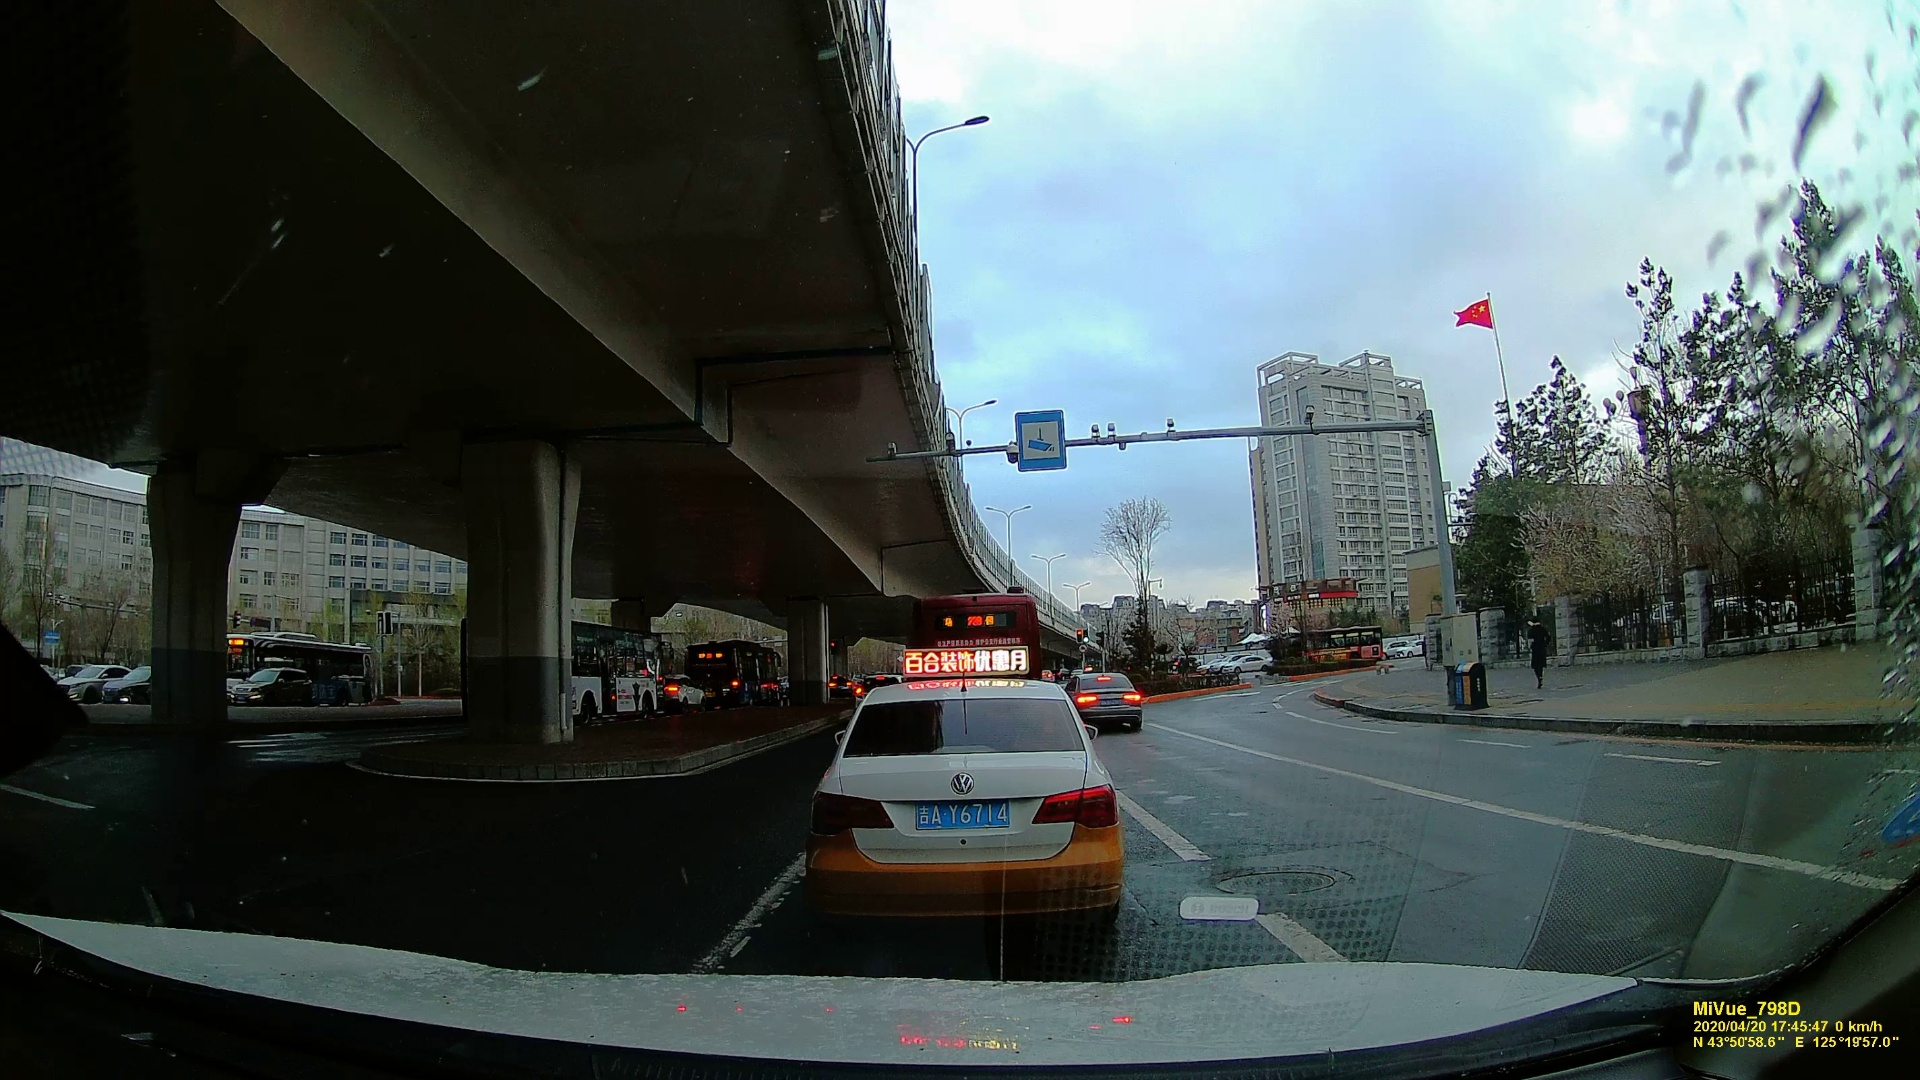bus: (225, 632, 397, 714), (911, 594, 1033, 687), (569, 624, 665, 724), (689, 632, 787, 720)
person: (1528, 622, 1550, 682)
traffic_sign: (1012, 408, 1068, 469)
vehicle: (812, 670, 1126, 919), (1063, 668, 1146, 730)
